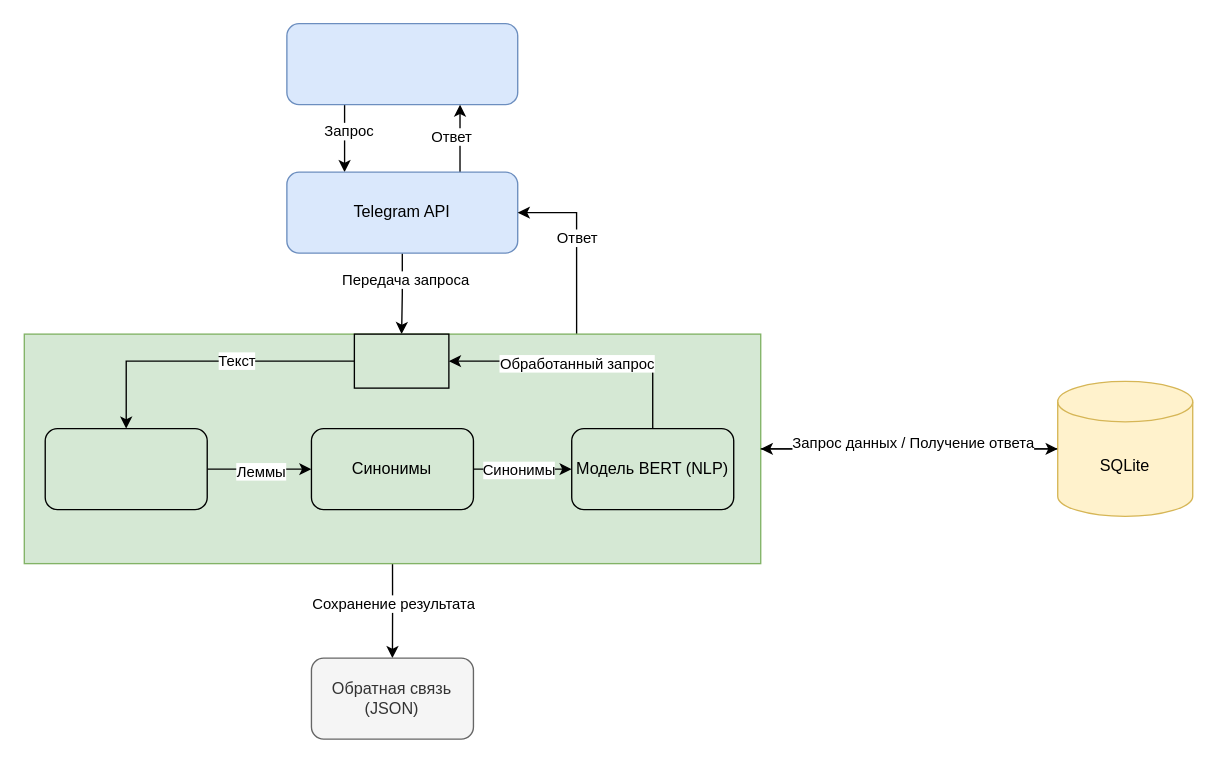
Some shapes in this 1216 by 763 pixel diagram are drawn without their labels. The shapes that lost their labels are listed below. From the top down, each one's centre as x and y in pixels, then its label:
At pixel 402 63: "Пользователь".
At pixel 401 360: "Чат-бот".
At pixel 125 468: "Лемматизация".
